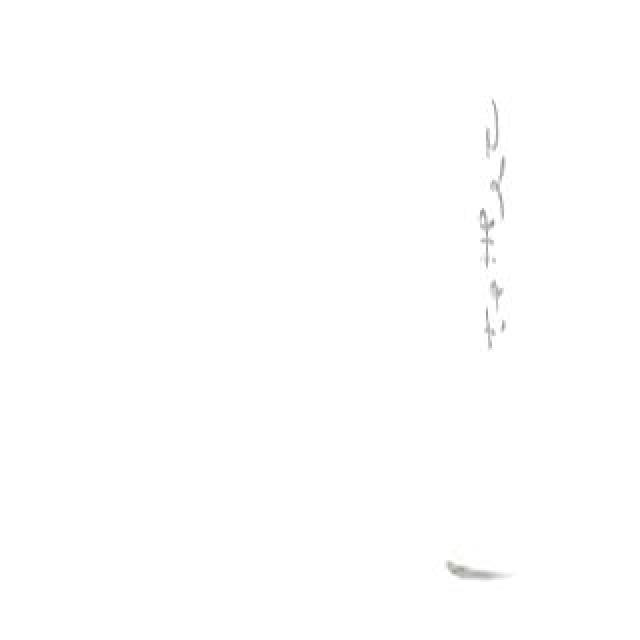Can: (438, 0, 538, 584)
